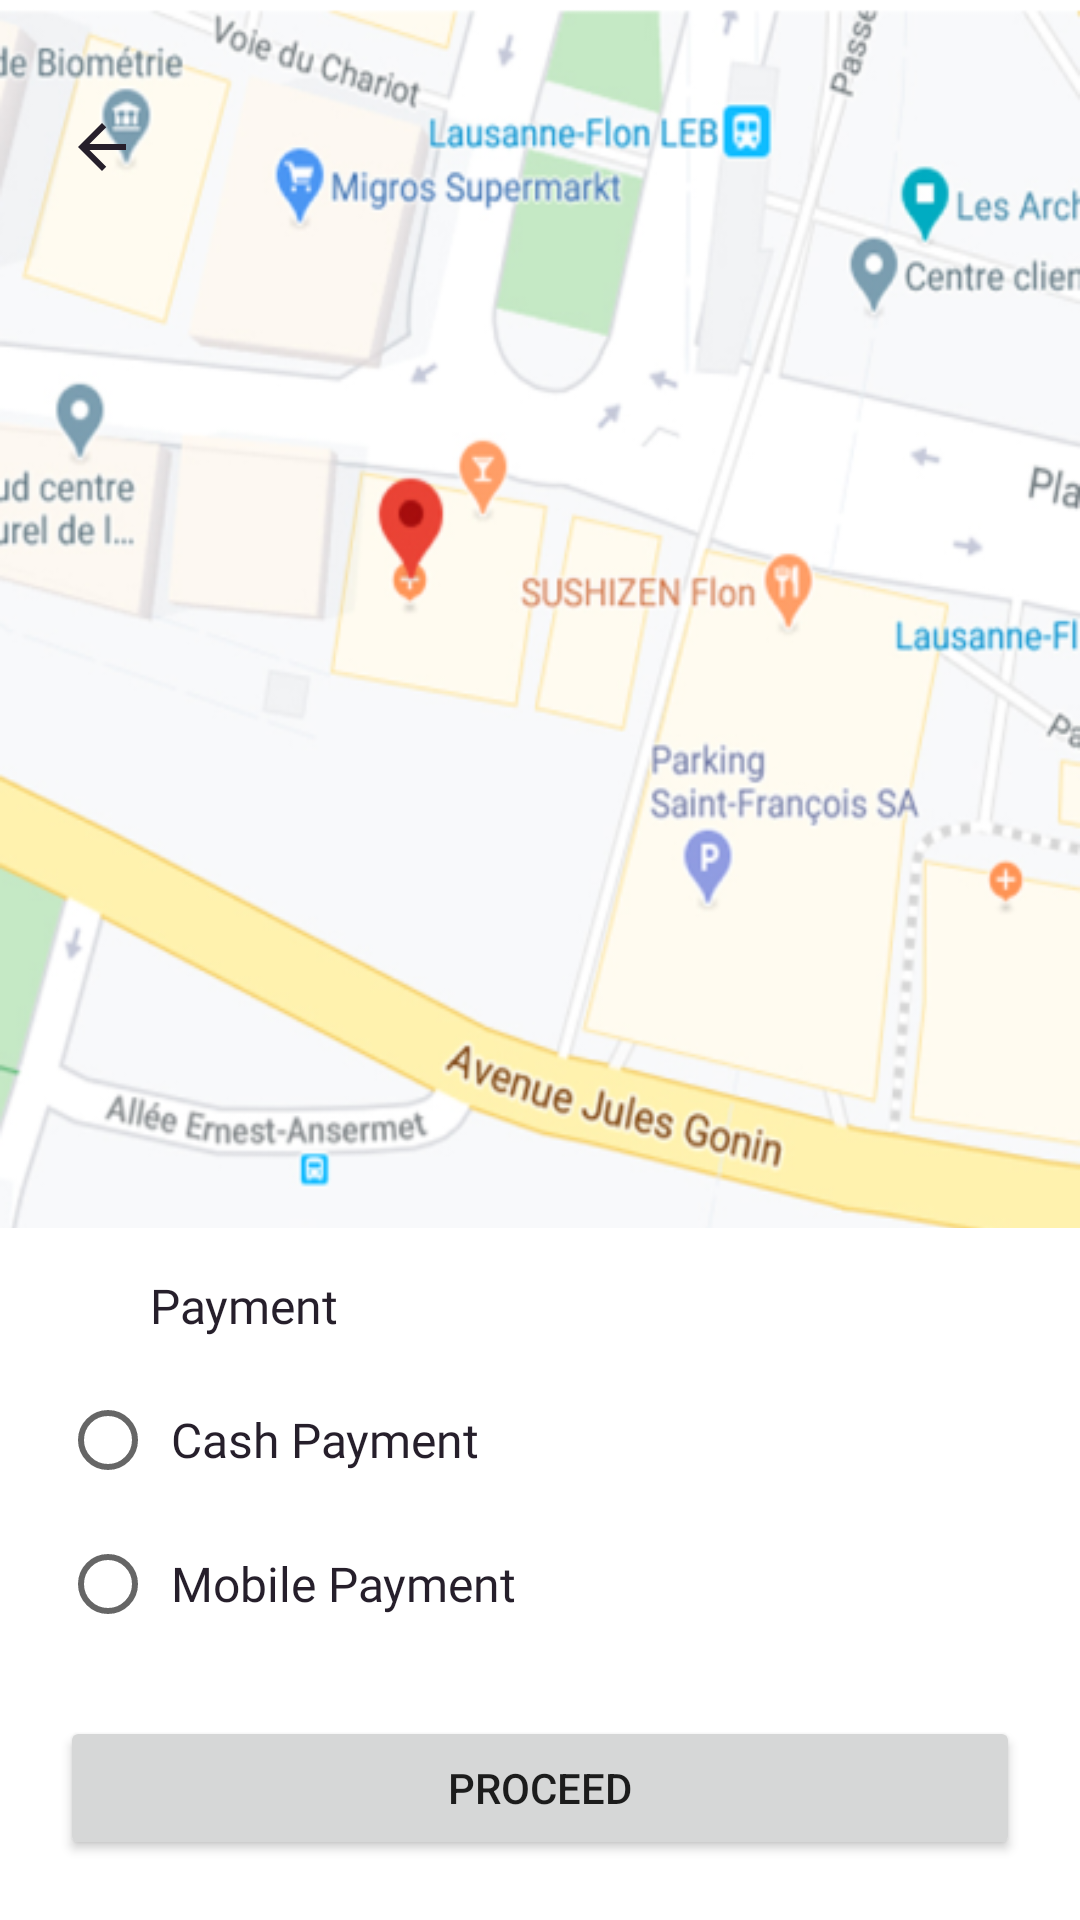

Point at icon controls on the screen. Image size 1080×1920, points as [x,y].
arrow back: [102,141]
